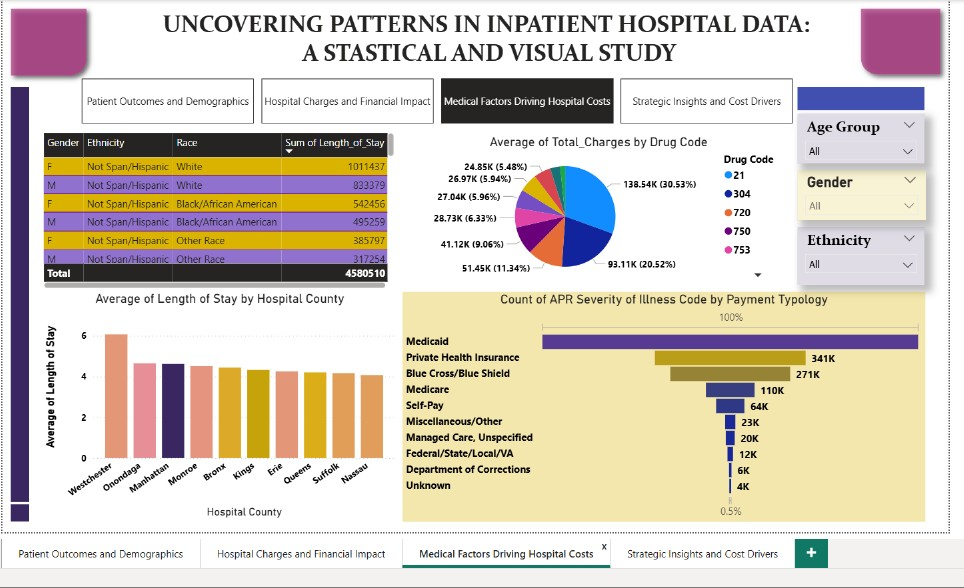

The page's visual inventory and layout, read from the dashboard file:
{"tool":"powerbi","page":{"name":"Medical Factors Driving Hospital Costs","canvas":[1280,720],"ordinal":2},"visuals":[{"type":"shape","box":[0,0,125,113.3],"z":0},{"type":"slicer","fields":{"Values":["data_cleaned.Age_Group"]},"box":[1075,153.3,171.7,68.3],"z":1000},{"type":"slicer","title":"GENDER","fields":{"Values":["data_cleaned.Gender"]},"box":[1075,230,173.3,68.3],"z":2000},{"type":"slicer","fields":{"Values":["data_cleaned.Ethnicity"]},"box":[1075,306.7,171.7,78.3],"z":3000},{"type":"shape","box":[1075,116.7,171.7,31.7],"z":4000},{"type":"shape","box":[1150,0,130,111.7],"z":5000},{"type":"shape","box":[11.7,116.7,25,561.7],"z":6000},{"type":"shape","box":[11.7,681.7,25,23.3],"z":7000},{"type":"tableEx","fields":{"Values":["data_cleaned.Gender","data_cleaned.Ethnicity","data_cleaned.Race","Sum(data_cleaned.Length_of_Stay)"]},"box":[50,175,485,220],"z":8000},{"type":"pieChart","fields":{"Category":["data_cleaned.APR_DRG_Code"],"Y":["Avg(data_cleaned.Total_Charges)"]},"box":[541.7,181.7,528.3,203.3],"z":9000},{"type":"lineStackedColumnComboChart","fields":{"Category":["data_cleaned.Hospital_County"],"Y":["Avg(data_cleaned.Length_of_Stay)"]},"box":[51.8,393.2,484.1,312],"z":10000},{"type":"funnel","title":"Count of APR Severity of Illness Code by Payment Typology","fields":{"Category":["data_cleaned.Payment_Typology_1"],"Y":["Sum(data_cleaned.APR_Severity_of_Illness_Code)"]},"box":[541.1,394.6,707.6,311.3],"z":11000},{"type":"pageNavigator","box":[107.6,106.4,962.4,61.1],"z":12000},{"type":"textbox","box":[162.6,7.3,991.7,106.4],"z":13000}]}

Visuals, with their boxes on the page's 1280x720 design canvas (x1, y1, x2, y2). These are canvas units, not pixel positions in the 964x588 screenshot, which may show the page scaled, cropped or inside an application window:
shape: 0,0,125,113
slicer - data_cleaned.Age_Group: 1075,153,1247,222
"GENDER" slicer: 1075,230,1248,298
slicer - data_cleaned.Ethnicity: 1075,307,1247,385
shape: 1075,117,1247,148
shape: 1150,0,1280,112
shape: 12,117,37,678
shape: 12,682,37,705
tableEx - data_cleaned.Gender x data_cleaned.Ethnicity: 50,175,535,395
pieChart - data_cleaned.APR_DRG_Code x Avg(data_cleaned.Total_Charges): 542,182,1070,385
lineStackedColumnComboChart - data_cleaned.Hospital_County x Avg(data_cleaned.Length_of_Stay): 52,393,536,705
"Count of APR Severity of Illness Code by Payment Typology" funnel: 541,395,1249,706
pageNavigator: 108,106,1070,168
textbox: 163,7,1154,114
